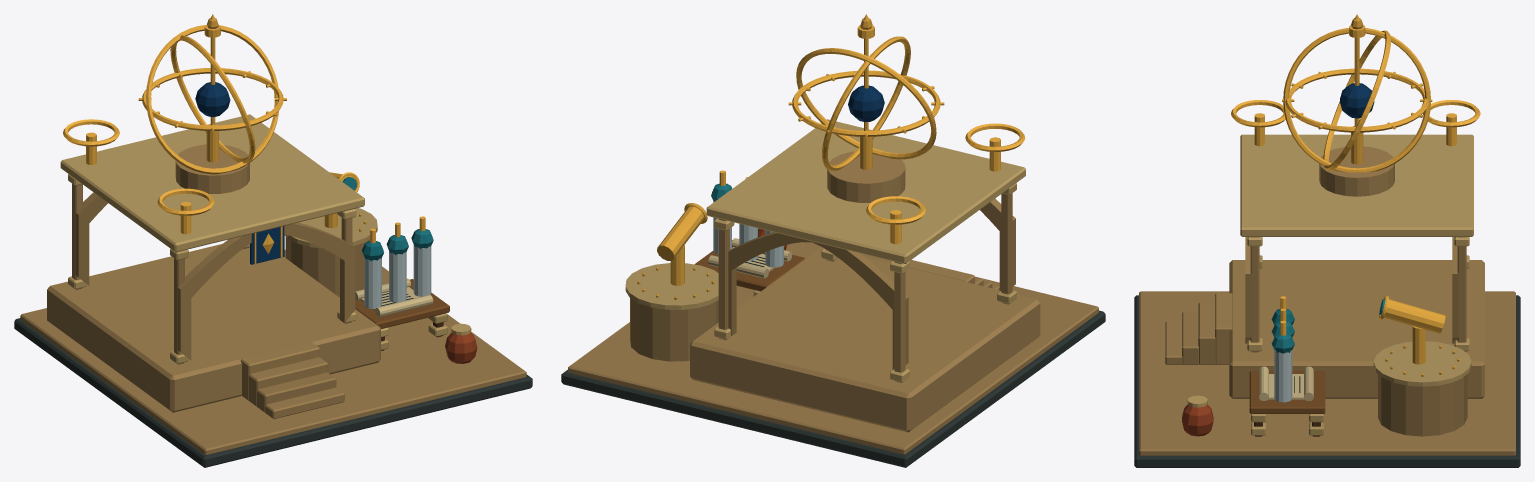
3 renders of one model, left to right at view 1: azimuth 30°, elevation 25°; view 2: azimuth 150°, elevation 25°; view 3: azimuth 270°, elevation 25°, orthographic. The views are drawn at different scales.
Visible parts, largest first — view 1: laboratory_level4_structure, laboratory_level4_metal; view 2: laboratory_level4_structure, laboratory_level4_metal; view 3: laboratory_level4_structure, laboratory_level4_metal.
Part boxes in pixels (x1,y1,x2,y2): laboratory_level4_structure: (14,18,532,467); laboratory_level4_metal: (63,14,425,263); laboratory_level4_structure: (561,18,1105,467); laboratory_level4_metal: (657,14,1025,285); laboratory_level4_structure: (1134,18,1520,467); laboratory_level4_metal: (1231,14,1480,364).
Size of the model in its own units: 5.6 by 5.61 by 5.6.
